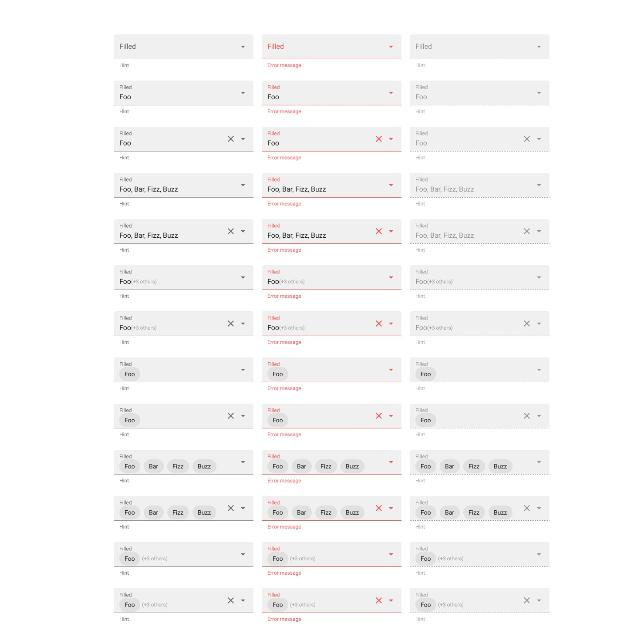VCombobox: (260, 124, 402, 162), (261, 172, 401, 208), (409, 264, 549, 300), (112, 588, 254, 622), (112, 34, 254, 68), (408, 496, 550, 530), (408, 34, 550, 68), (260, 542, 402, 576), (408, 542, 550, 576), (260, 34, 402, 68), (112, 126, 254, 160), (112, 173, 254, 207), (260, 219, 402, 253), (408, 357, 550, 391), (112, 311, 254, 345), (113, 80, 253, 114), (409, 219, 549, 253), (261, 496, 401, 530), (409, 126, 549, 160), (409, 172, 549, 206), (409, 80, 549, 114), (113, 449, 253, 483), (113, 357, 253, 391), (261, 588, 401, 622), (113, 265, 253, 299), (113, 219, 253, 253), (261, 80, 401, 114), (261, 449, 401, 483), (261, 265, 401, 299), (261, 311, 401, 345), (261, 403, 401, 437), (409, 311, 549, 345), (409, 588, 549, 620), (113, 496, 253, 528), (113, 542, 253, 574), (409, 450, 549, 482), (409, 404, 549, 436), (261, 358, 401, 390), (113, 404, 253, 436)
